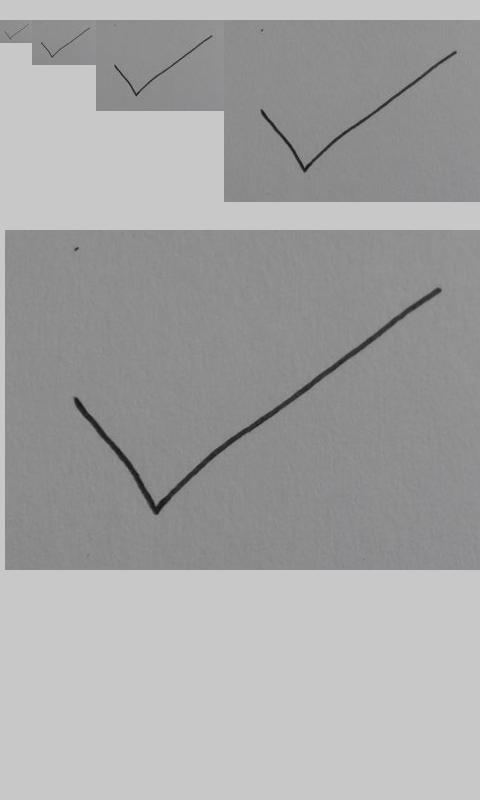check_box: (73, 286, 445, 516), (261, 51, 456, 173), (114, 35, 212, 96), (41, 28, 89, 58), (4, 24, 28, 39)
